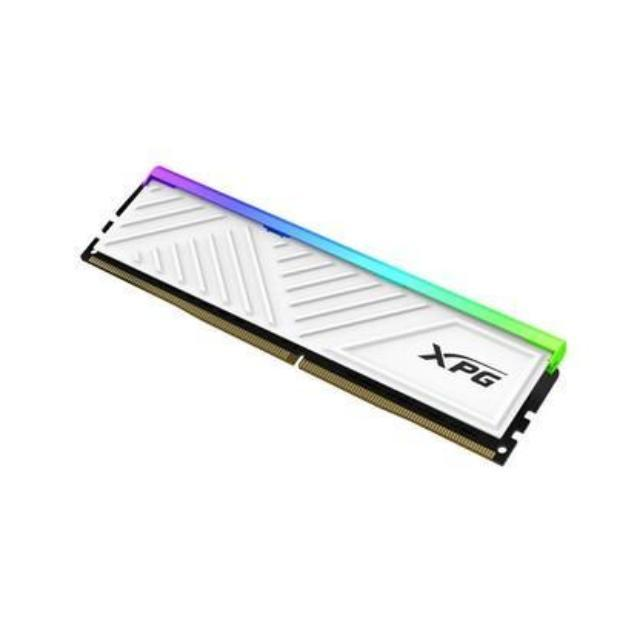RAM: (61, 156, 568, 474)
